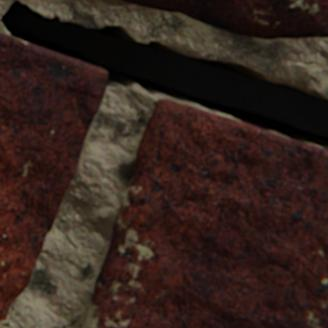brick: (81, 99, 327, 327), (0, 33, 107, 319), (122, 0, 327, 38)
crack: (0, 0, 327, 150)
